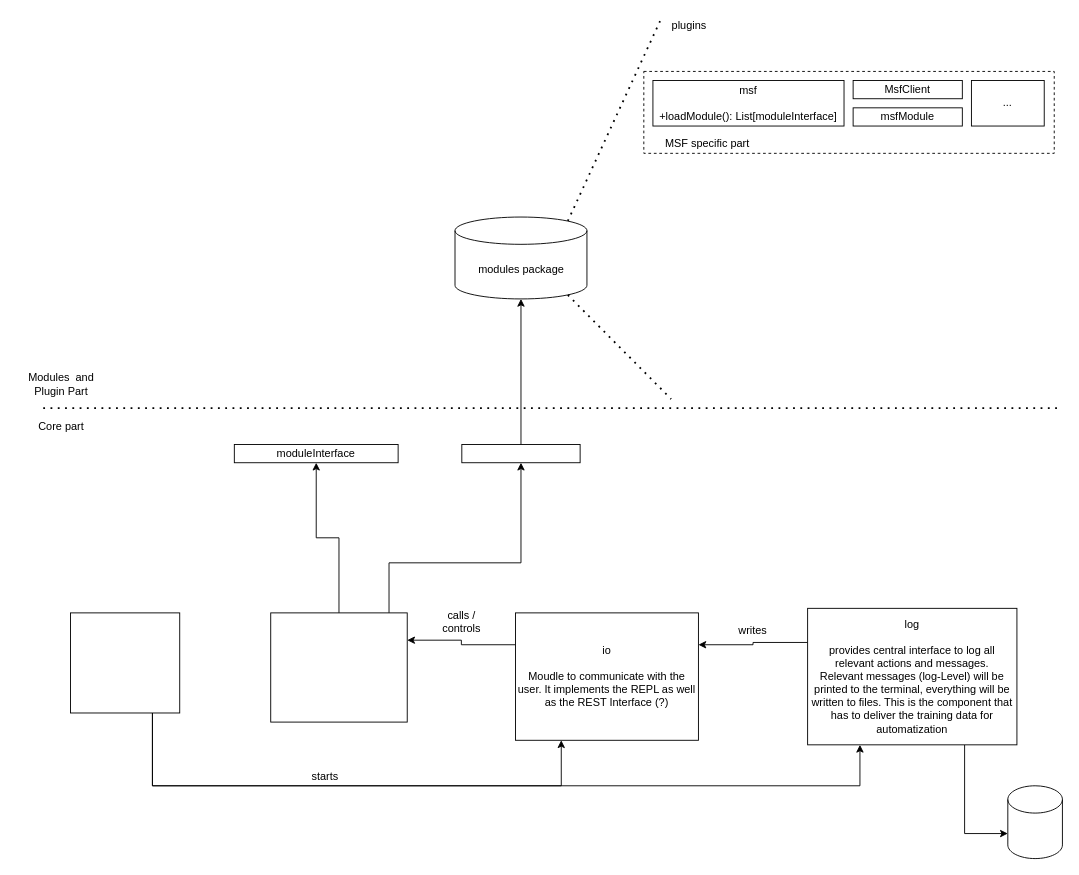
Some shapes in this 1079 by 875 pixel diagram are drawn without their labels. The box of each missing label's shape, as (x1, y1, x2, y2) in pixels:
app Main application with the startup and shutdown part: (70, 612, 180, 713)
core core functionalities. These are called by the io modules: (270, 612, 407, 722)
log files: (1007, 785, 1062, 859)
moduleLoader: (461, 444, 580, 463)
